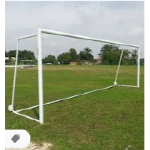goals: (9, 27, 141, 125)
